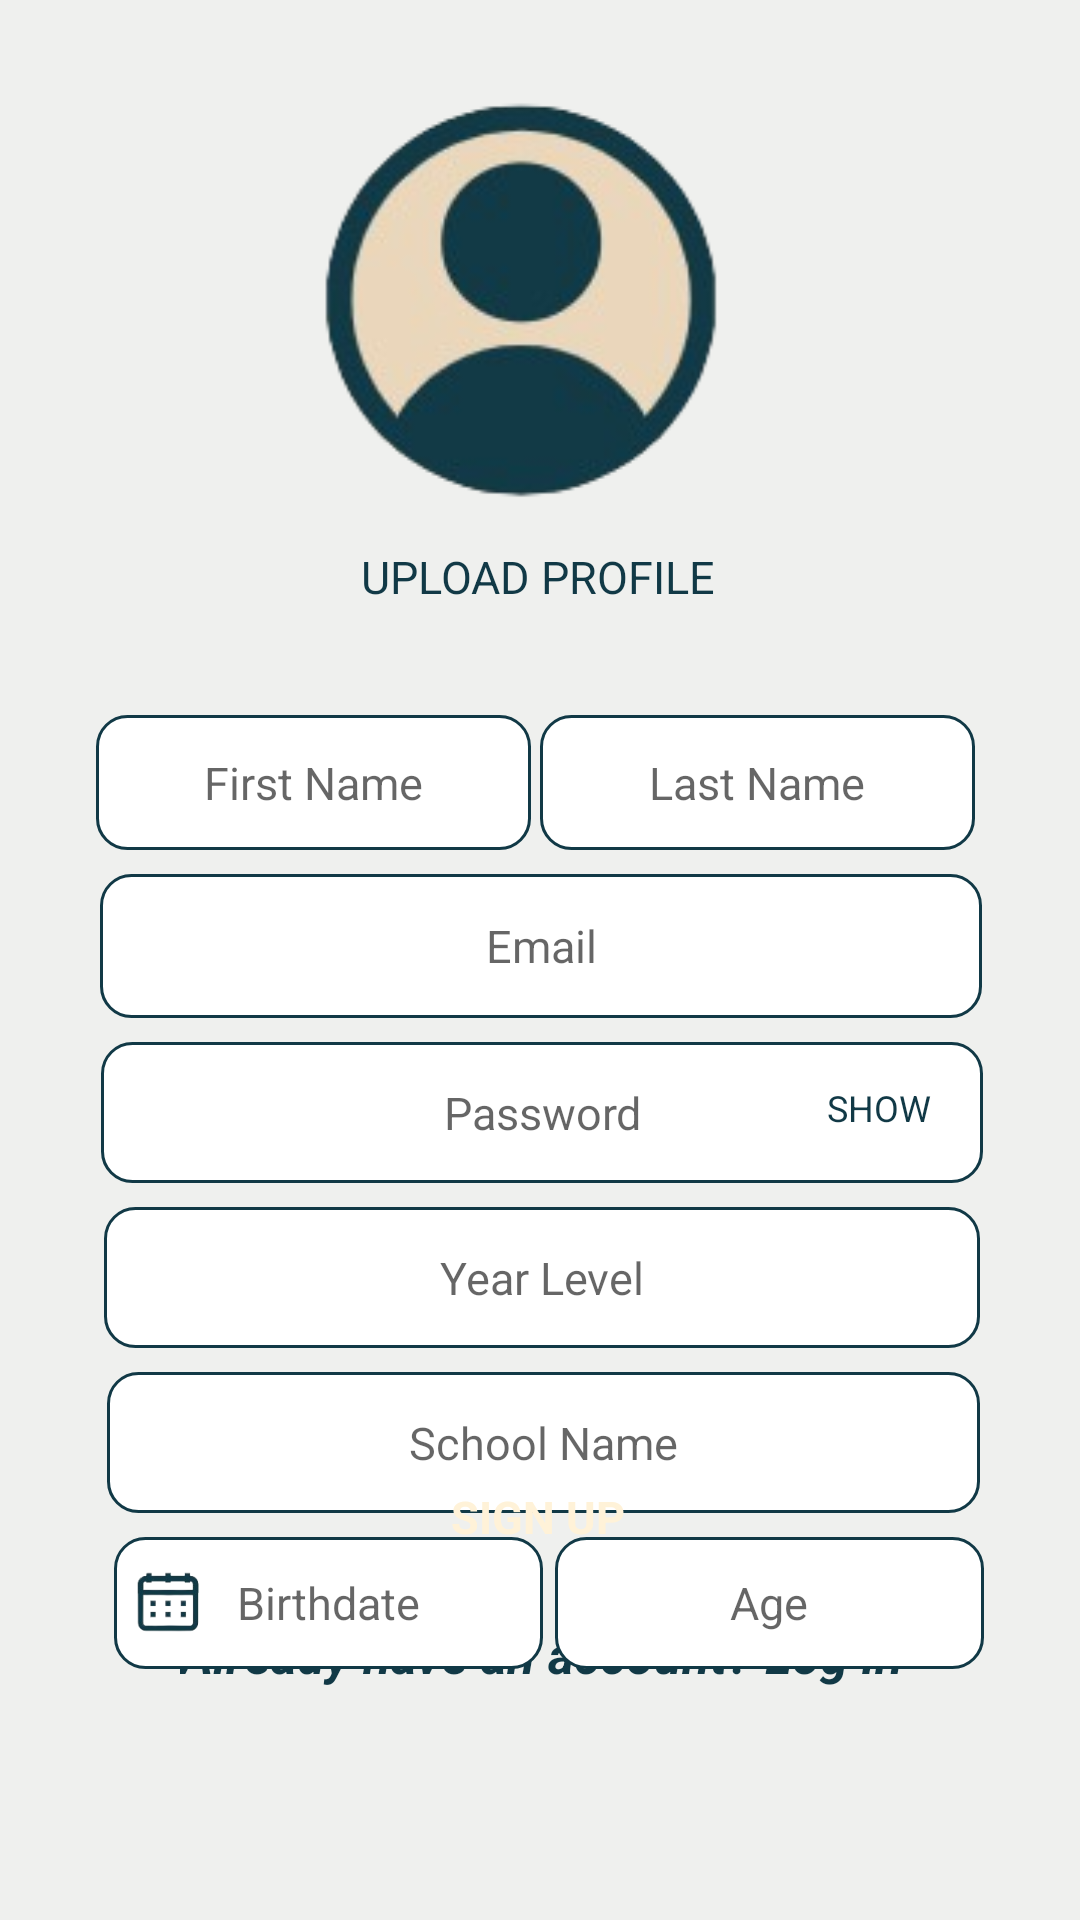

Icons on this 1080x1920 Android screen, each with the point to tap as (x=x, y=y):
calendar: (x=168, y=1602)
